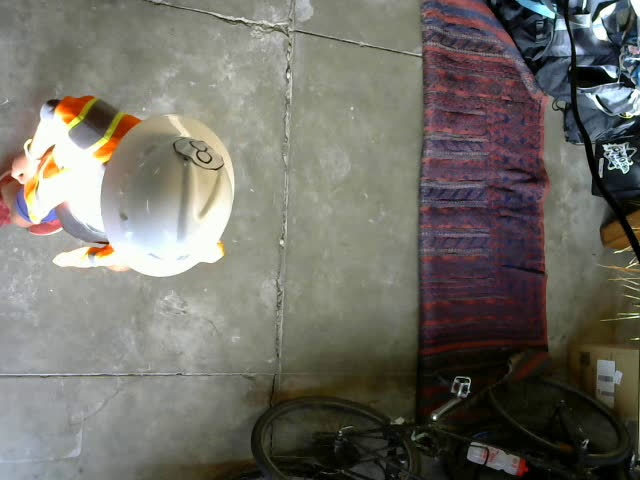eight: (172, 137, 221, 168)
